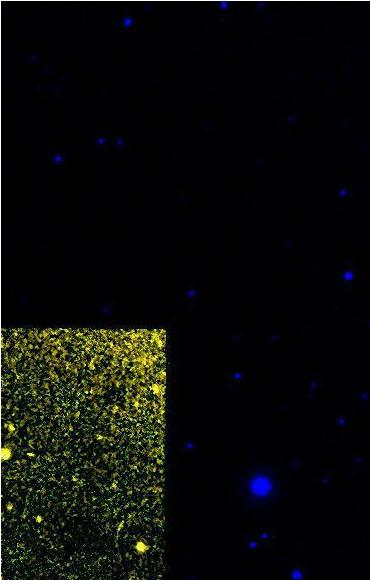star: (17, 439, 47, 469)
